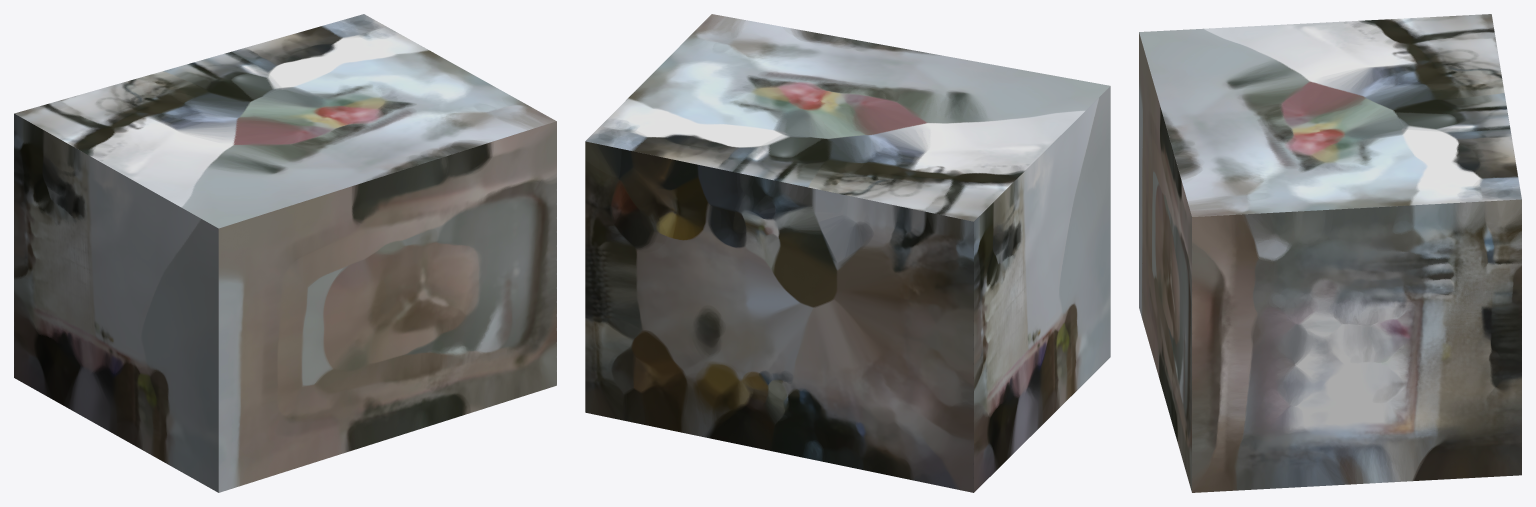
Rendered from room_model_v3.glb.
3 renders of one model, left to right at view 1: azimuth 30°, elevation 25°; view 2: azimuth 150°, elevation 25°; view 3: azimuth 270°, elevation 25°, orthographic. The views are drawn at different scales.
Parts seen in each view (by area): view 1: Wall_South, Ceiling, Wall_West; view 2: Wall_North, Ceiling, Wall_West; view 3: Wall_East, Ceiling, Wall_South.
Part boxes in pixels (x1,y1,x2,y2): Wall_South: (218, 121, 556, 492); Ceiling: (14, 14, 556, 228); Wall_West: (14, 113, 218, 492); Wall_North: (585, 141, 973, 492); Ceiling: (585, 14, 1110, 221); Wall_West: (974, 86, 1110, 492); Wall_East: (1192, 199, 1521, 492); Ceiling: (1139, 14, 1521, 216); Wall_South: (1139, 32, 1191, 491).
Size of the model in its own units: 4.71 by 2.98 by 3.75.
Materials: 6 (6 with a texture image).
